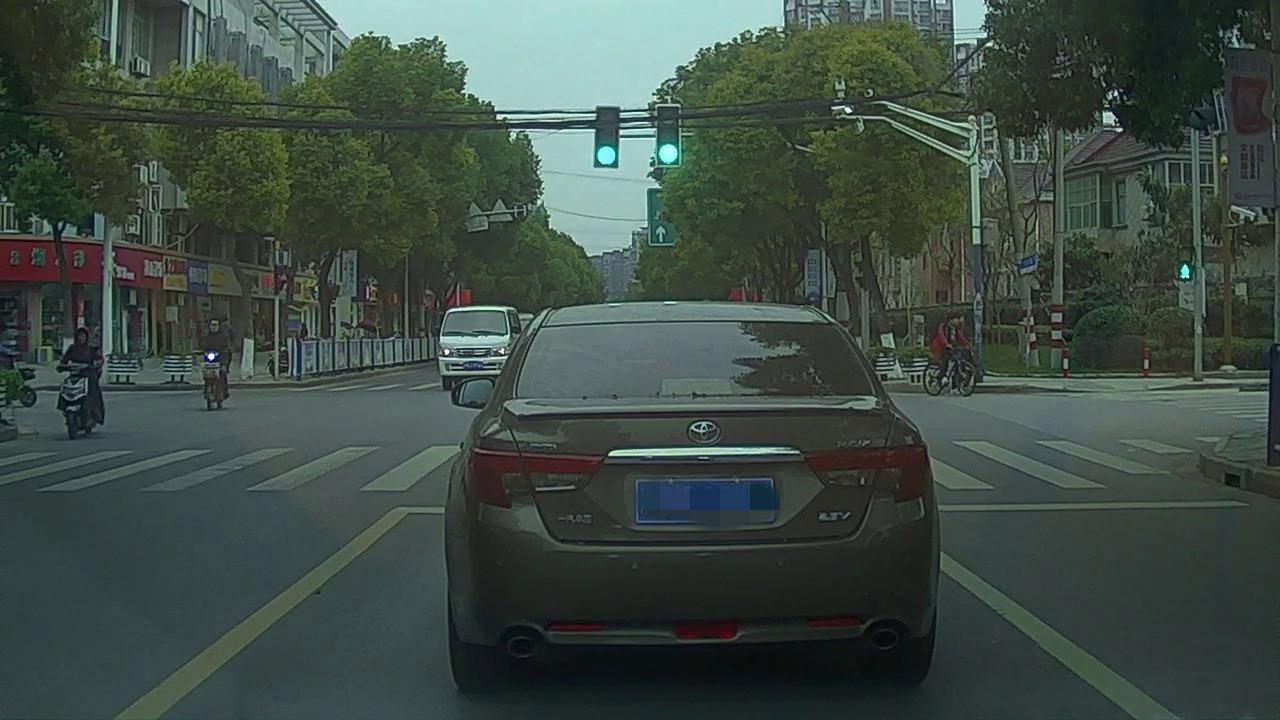traffic_light: (657, 106, 681, 165), (596, 108, 617, 165)
